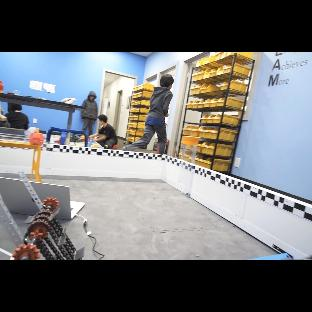Goal: (0, 128, 44, 182)
Loader: (178, 136, 199, 198)
Robot: (0, 196, 84, 260)
V5_RED: (29, 133, 44, 146)
redingoal: (29, 133, 43, 146)
